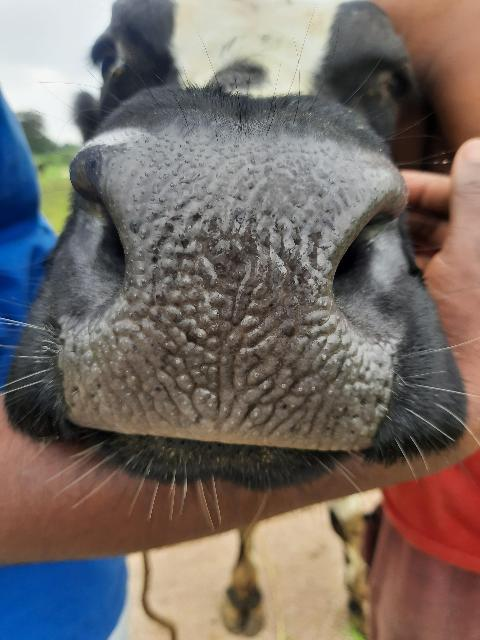Muzzle: (86, 136, 373, 452)
